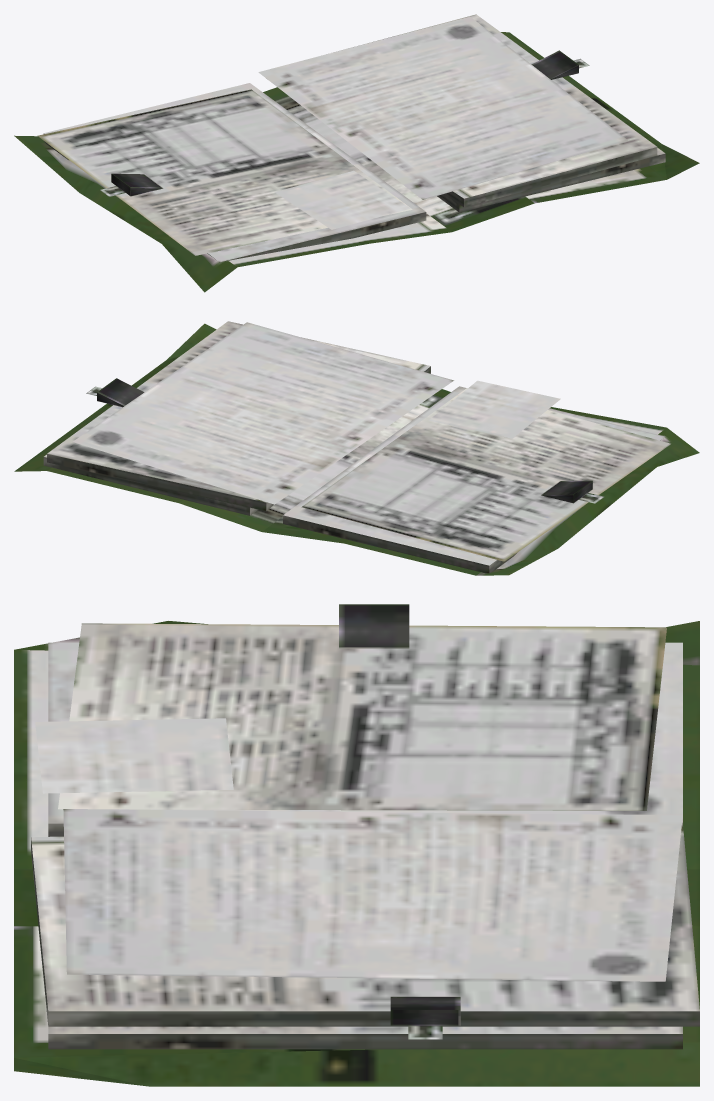
The model's file is filefolder_open.fbx.
The picture shows the model from 3 angles, top to bottom: view 1: azimuth 30°, elevation 25°; view 2: azimuth 150°, elevation 25°; view 3: azimuth 270°, elevation 25°; orthographic projection. The views are drawn at different scales.
Parts seen in each view (by area): view 1: mesh_0; view 2: mesh_0; view 3: mesh_0.
Boxes of the visible parts, x1,y1,x2,y2 form: mesh_0: [14, 14, 699, 292]; mesh_0: [14, 321, 699, 575]; mesh_0: [14, 604, 699, 1086].
Bounding box in the file's own units: 60 × 4 × 40.
Materials: 1 (1 with a texture image).
